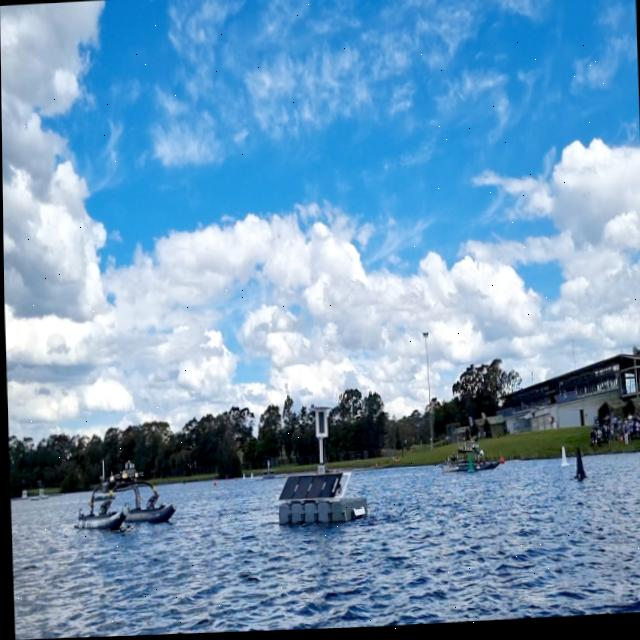led: (315, 412, 325, 437)
